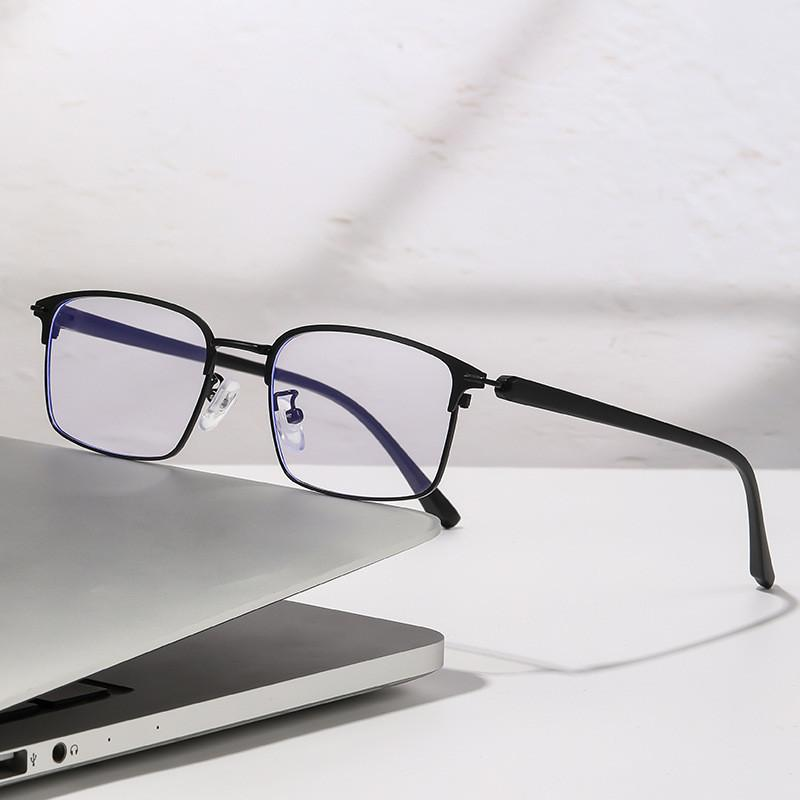spectacles: (28, 272, 545, 538)
